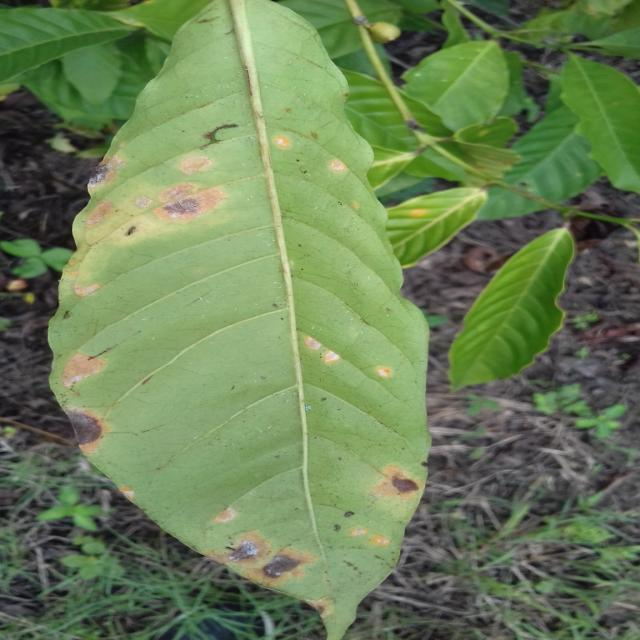Enfermedad-Roya: (48, 0, 432, 640)
